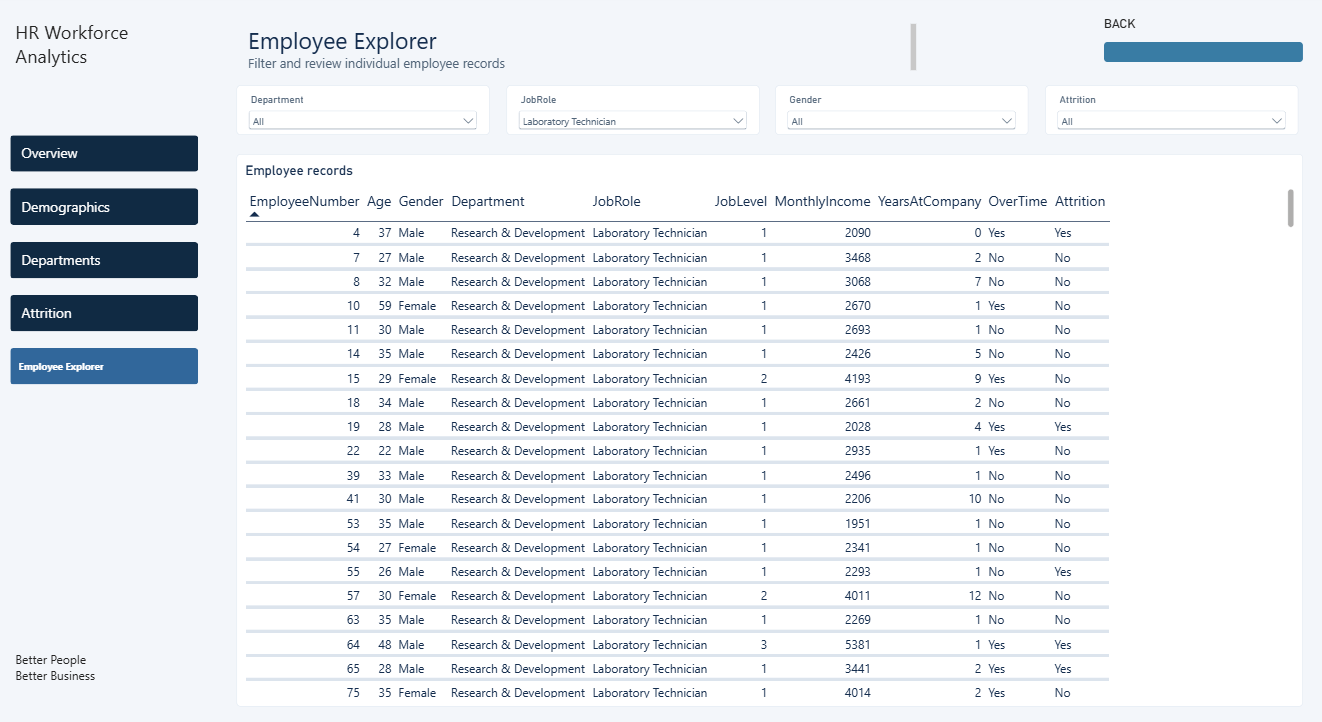

What the dashboard file says about the page in this screenshot:
{"tool":"powerbi","page":{"name":"Employee Explorer","canvas":[1920,1080],"ordinal":4},"visuals":[{"type":"textbox","box":[0,0,304,1080],"z":-1000},{"type":"slicer","fields":{"Values":["Employees.Department"]},"box":[344,132,366,72],"z":8000},{"type":"slicer","fields":{"Values":["Employees.JobRole"]},"box":[734,132,366,72],"z":8000},{"type":"slicer","fields":{"Values":["Employees.Gender"]},"box":[1124,132,366,72],"z":8000},{"type":"slicer","fields":{"Values":["Employees.Attrition"]},"box":[1514,132,366,72],"z":8000},{"type":"tableEx","title":"Employee records","fields":{"Values":["Employees.EmployeeNumber","Employees.Age","Employees.Gender","Employees.Department","Employees.JobRole","Employees.JobLevel","Employees.MonthlyIncome","Employees.YearsAtCompany","Employees.OverTime","Employees.Attrition"]},"box":[344,232,1544,800],"z":9000},{"type":"textbox","box":[344,28,1000,100],"z":9001},{"type":"actionButton","title":"BACK","box":[1600,32,288,66],"z":20000},{"type":"textbox","box":[24,36,256,108],"z":20000},{"type":"pageNavigator","box":[16,204,272,364],"z":20000},{"type":"textbox","box":[24,952,256,104],"z":20000}]}

Visuals, with their boxes in screenshot pixels (x1, y1, x2, y2), scaled from the page's 1920x1080 canvas onto the 1322x722 screenshot:
textbox: l=0, t=0, r=209, b=721
slicer - Employees.Department: l=237, t=88, r=489, b=136
slicer - Employees.JobRole: l=505, t=88, r=757, b=136
slicer - Employees.Gender: l=774, t=88, r=1026, b=136
slicer - Employees.Attrition: l=1042, t=88, r=1294, b=136
"Employee records" tableEx: l=237, t=155, r=1300, b=690
textbox: l=237, t=19, r=925, b=86
"BACK" actionButton: l=1102, t=21, r=1300, b=66
textbox: l=17, t=24, r=193, b=96
pageNavigator: l=11, t=136, r=198, b=380
textbox: l=17, t=636, r=193, b=706
